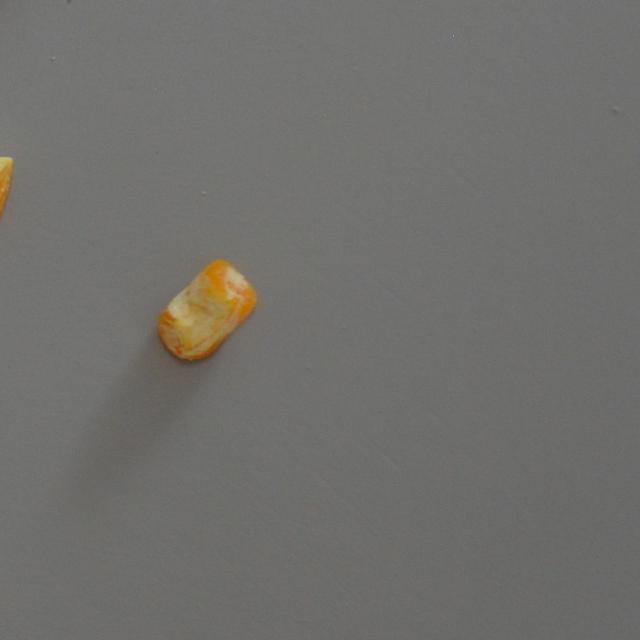pelicula: (156, 256, 258, 362), (0, 129, 14, 250)
